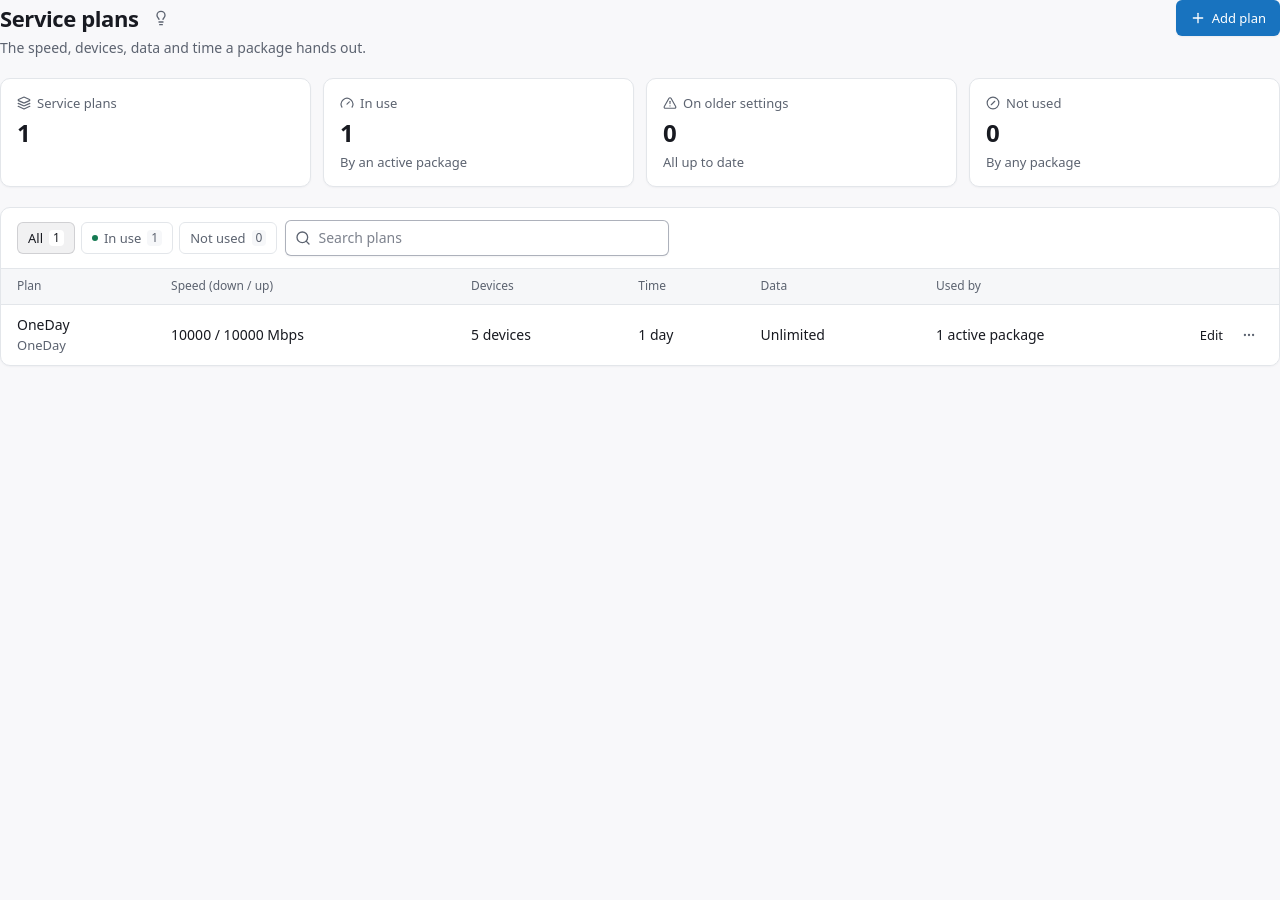
Scenario: ServicePlansPage — editing an existing plan › says a refused password in words when an existing plan is saved
Click the button "Edit".
click(1211, 335)  # box 1192,321 -> 1231,349
(page scrolled)
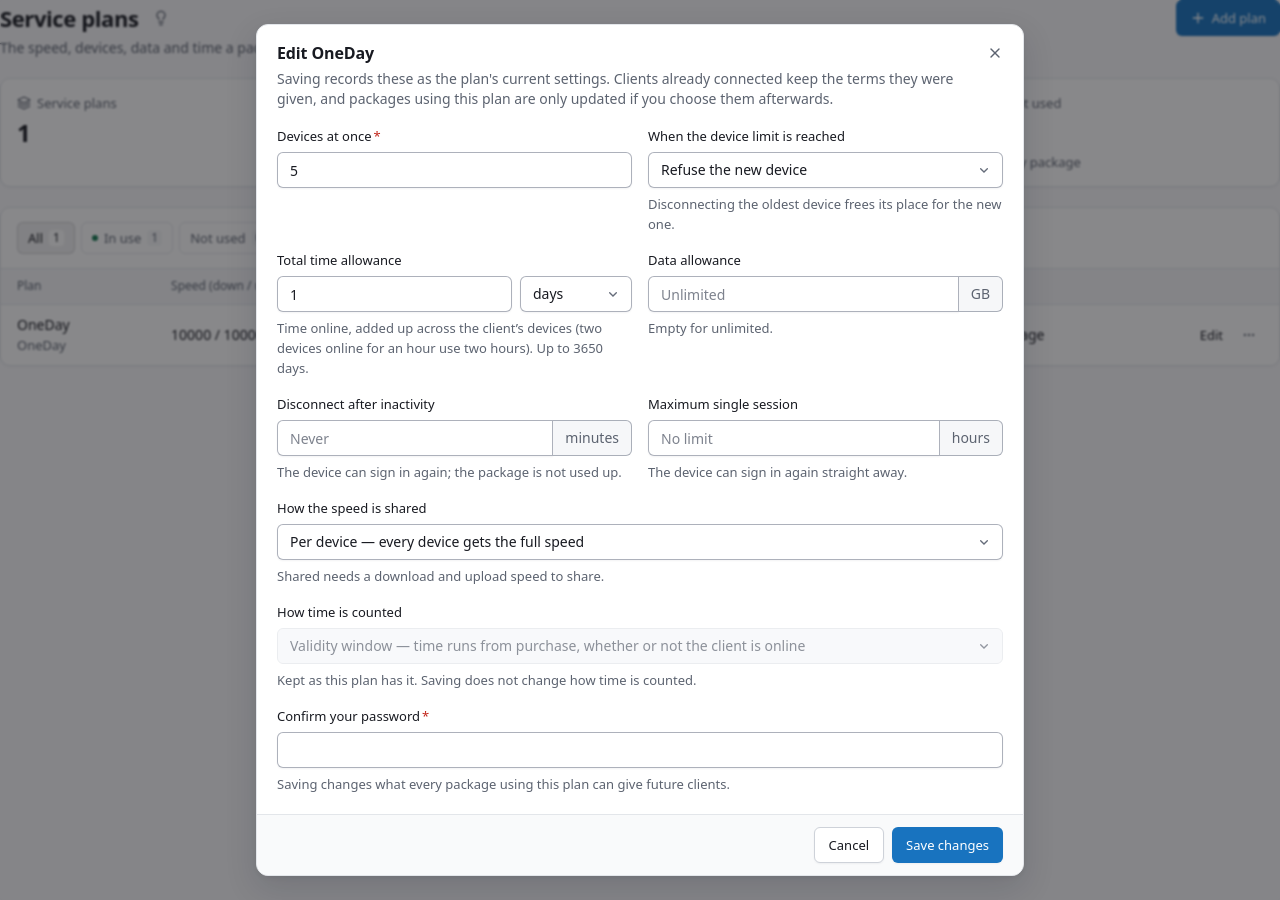
Type "wrong" into the password field named "password".
click(640, 750); type("wrong")  # box 277,732 -> 1003,768
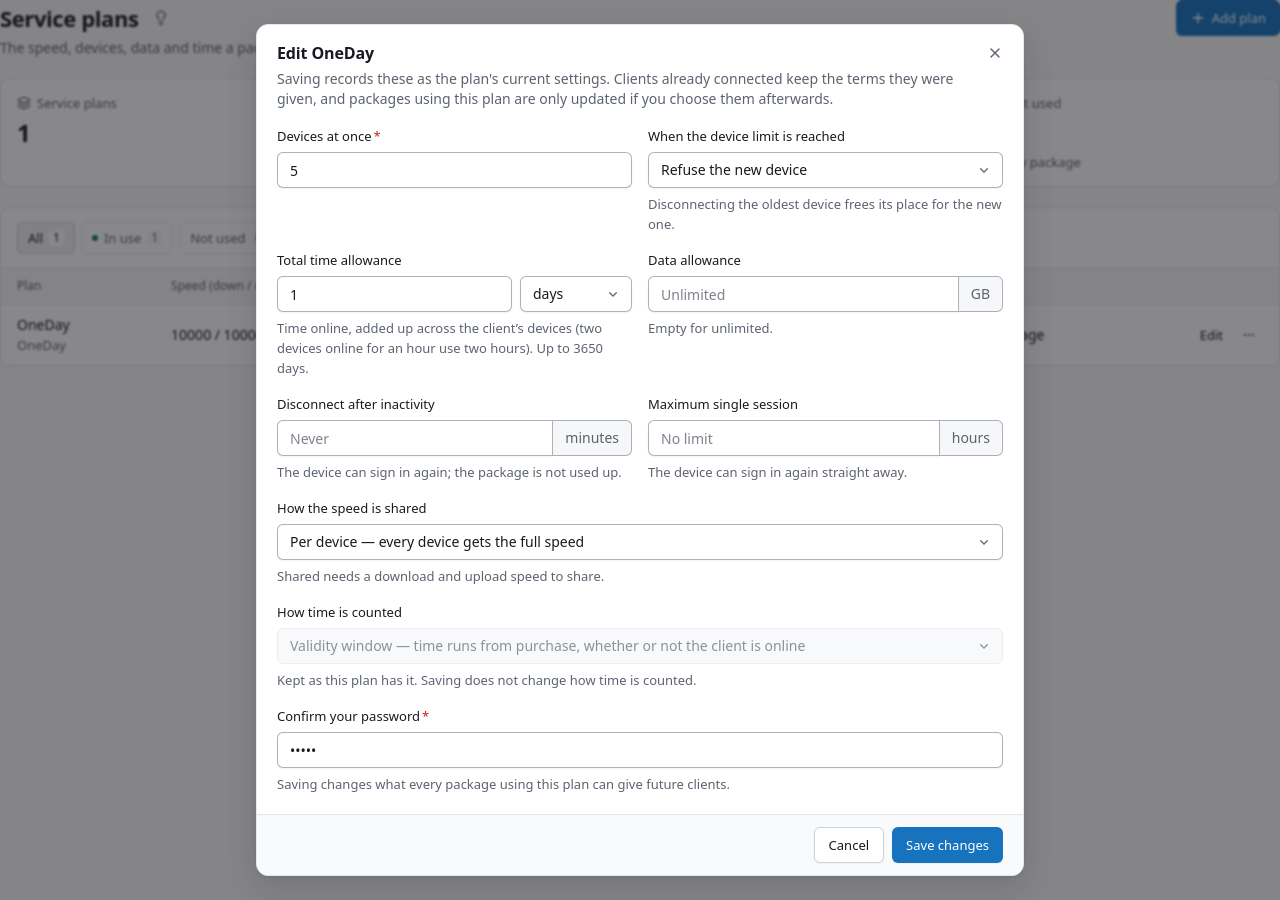
Click the button "Save changes".
click(948, 845)  # box 892,827 -> 1003,863
(page scrolled)
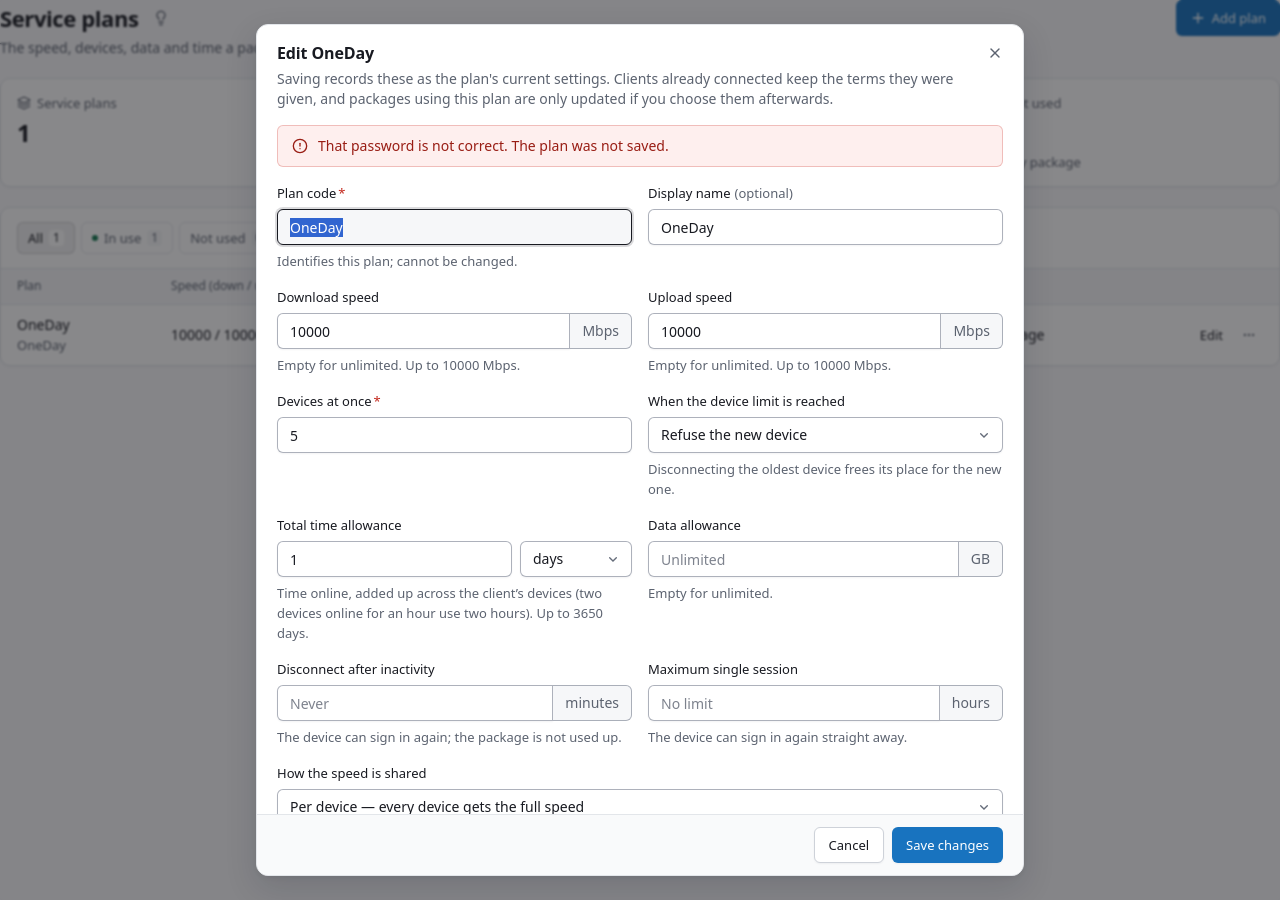
Check: the text "That password is not correct. The plan was not saved." is shown, box 318,136 -> 669,156
